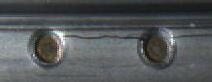joints: (27, 27, 65, 70), (138, 28, 177, 68)
